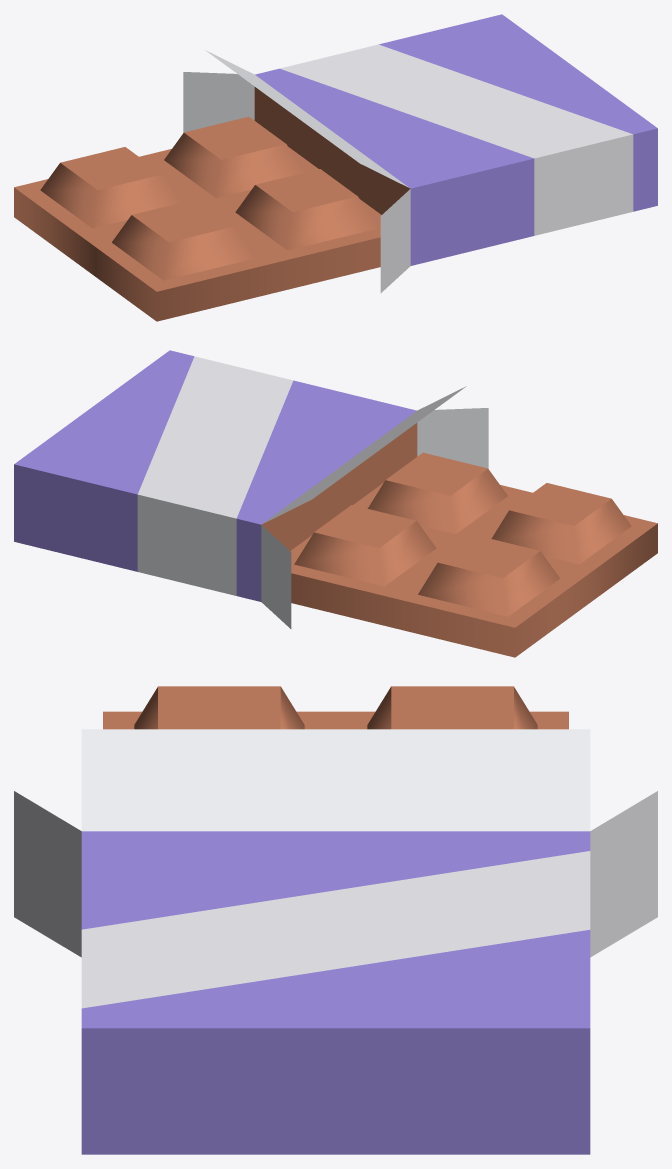
File: chocolateWrapper.GLB
3 views of the same model, one above another, from view 1: azimuth 30°, elevation 25°; view 2: azimuth 150°, elevation 25°; view 3: azimuth 270°, elevation 25° (orthographic). The views are drawn at different scales.
Parts seen in each view (by area): view 1: chocolateWrapper; view 2: chocolateWrapper; view 3: chocolateWrapper.
Boxes of the visible parts, box(x1,y1,x2,y2) form: chocolateWrapper: box(14, 14, 657, 321); chocolateWrapper: box(14, 350, 657, 657); chocolateWrapper: box(14, 686, 657, 1154).
Size of the model in its own units: 0.2924 by 0.0649 by 0.202.
